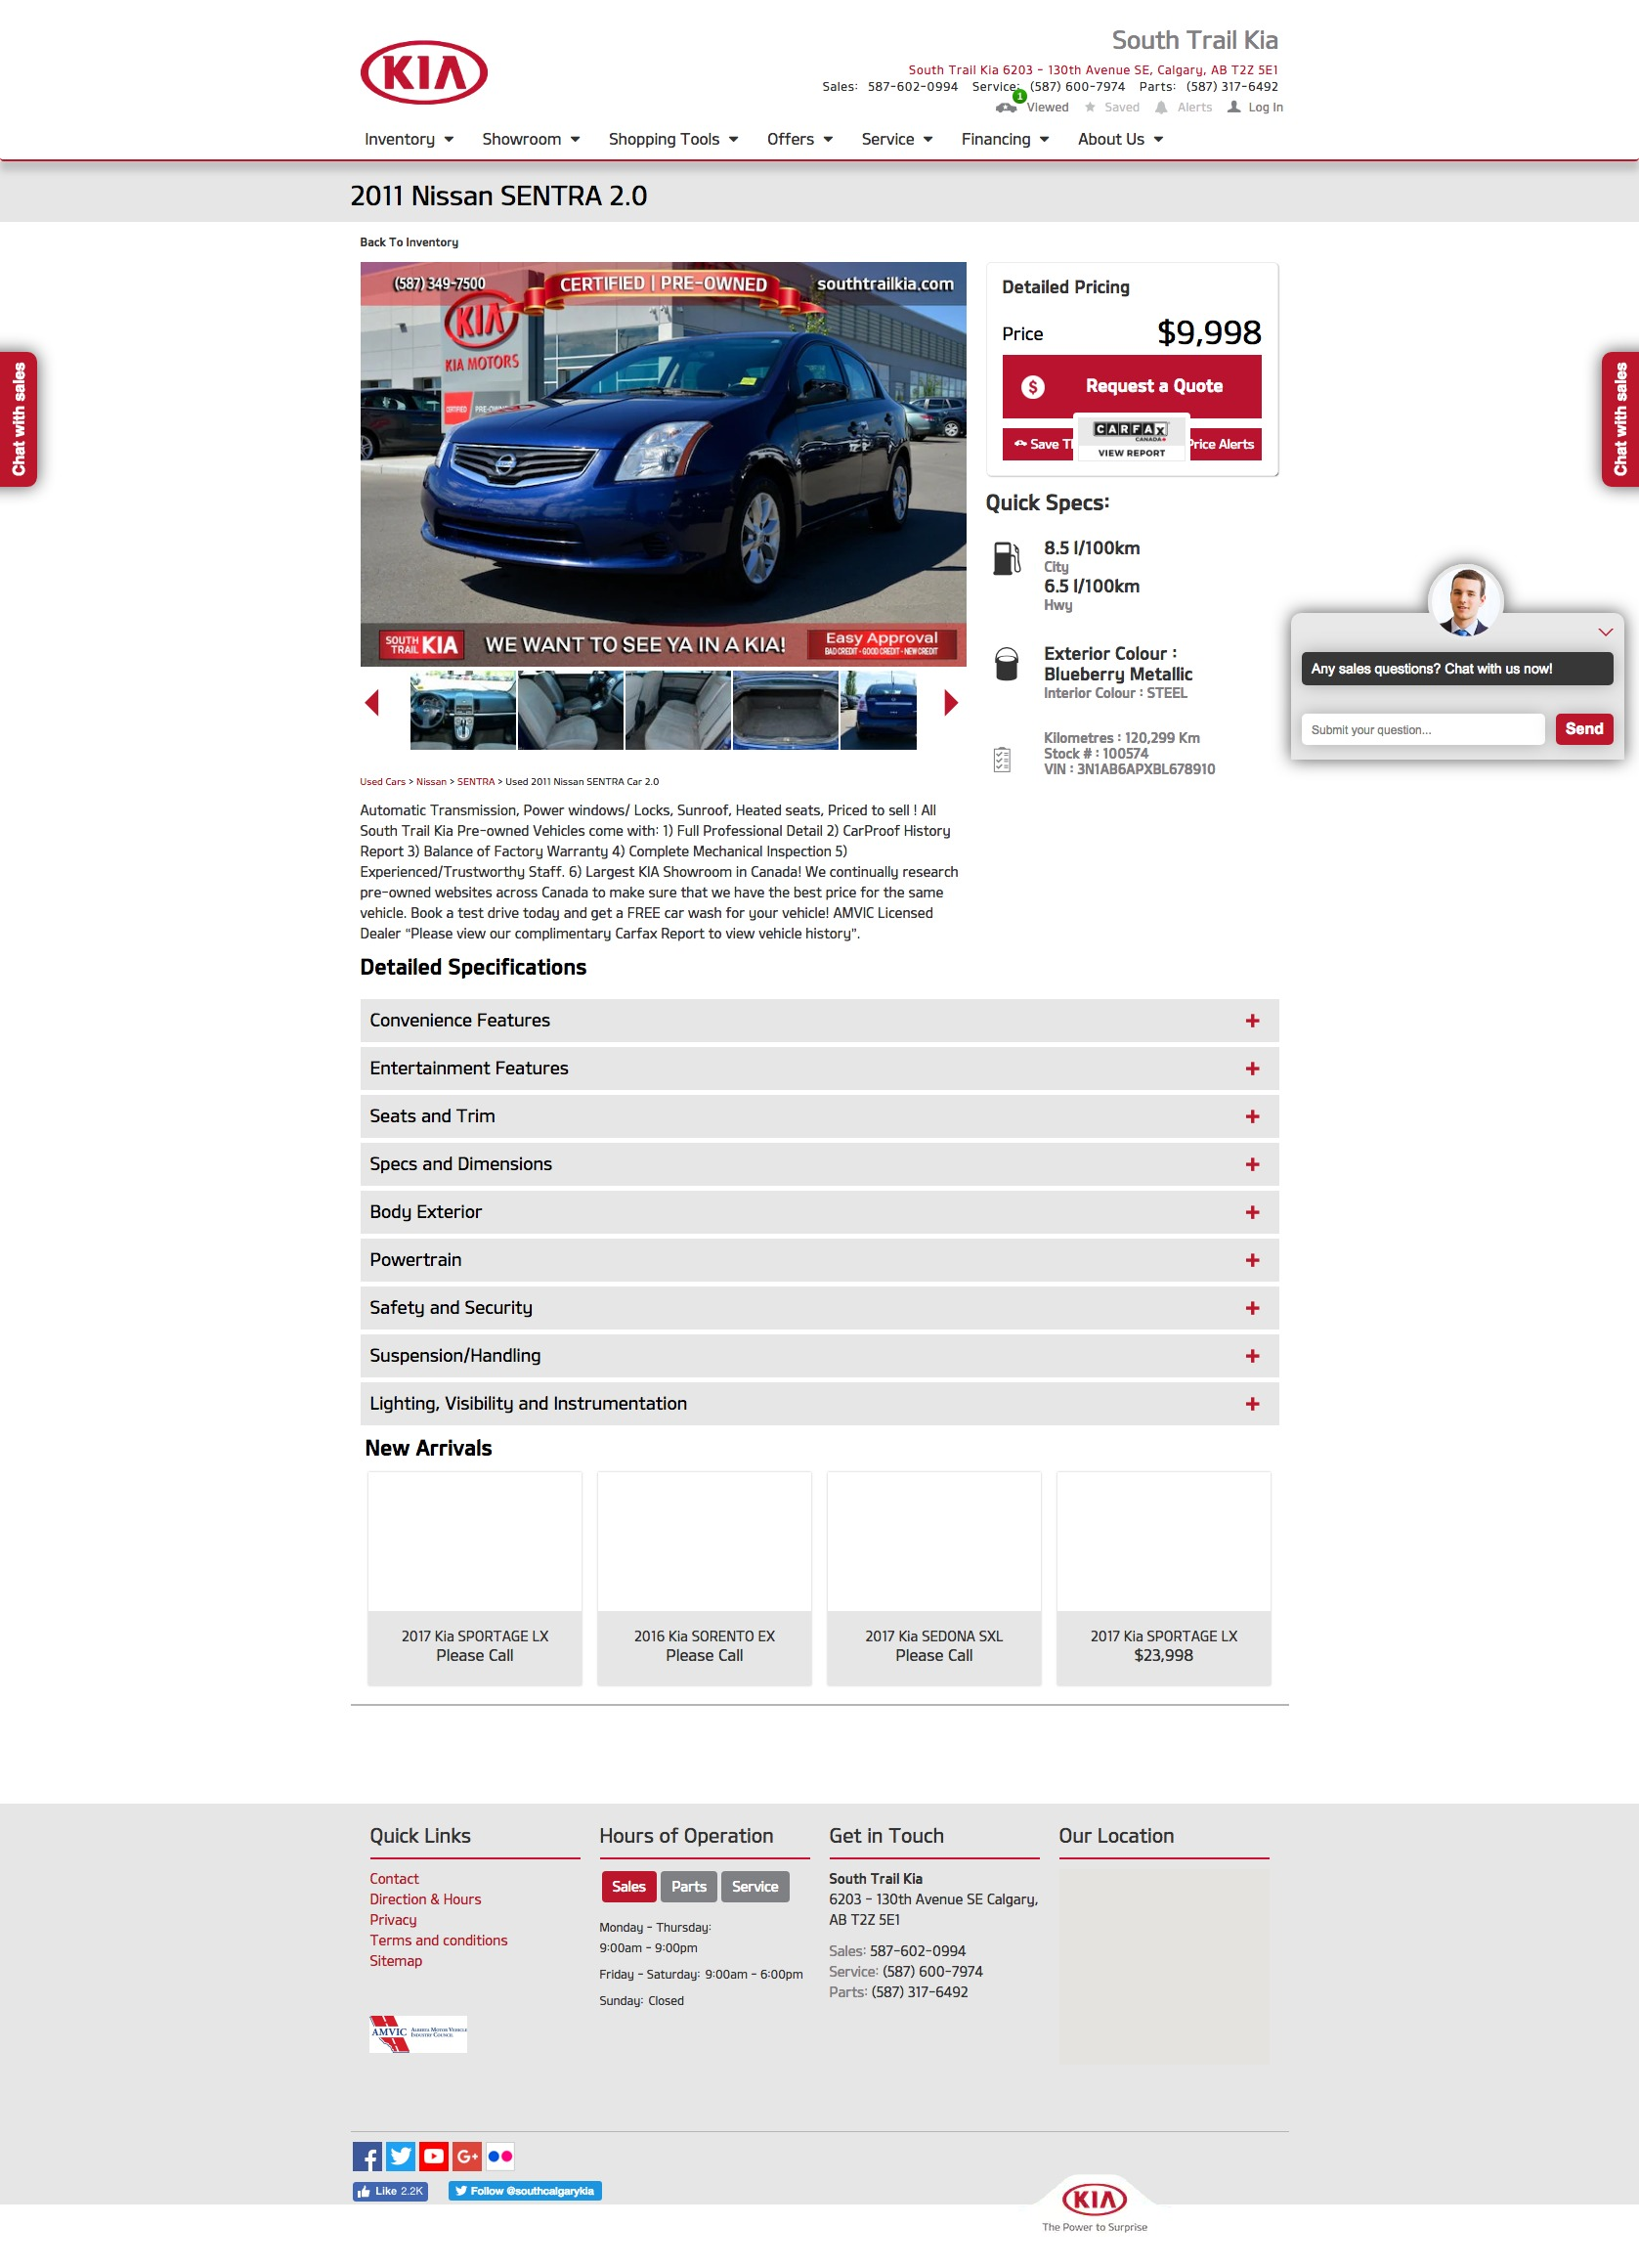car: (944, 688, 961, 717)
